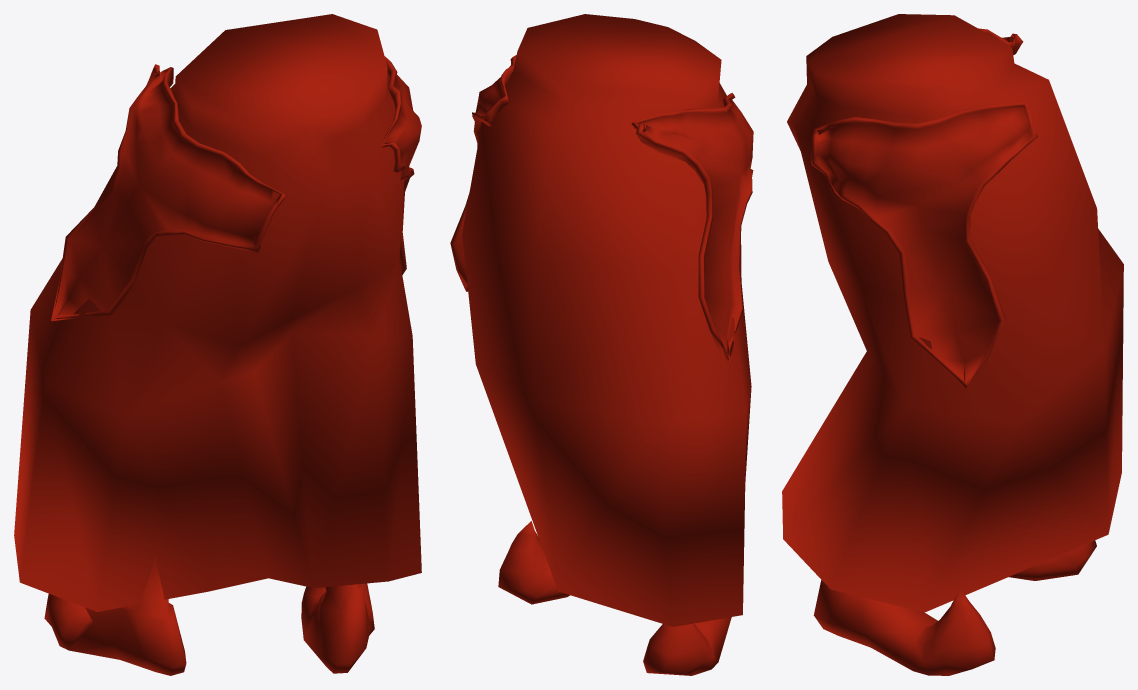
The model's file is bot_000069.obj.
The picture shows the model from 3 angles, left to right: view 1: azimuth 30°, elevation 25°; view 2: azimuth 150°, elevation 25°; view 3: azimuth 270°, elevation 25°; orthographic projection. The views are drawn at different scales.
Visible parts, largest first — view 1: LowPoly_Warlock.004_Plane.004; view 2: LowPoly_Warlock.004_Plane.004; view 3: LowPoly_Warlock.004_Plane.004.
Boxes of the visible parts, x1=… form: LowPoly_Warlock.004_Plane.004: x1=14, y1=14, x2=421, y2=675; LowPoly_Warlock.004_Plane.004: x1=450, y1=14, x2=753, y2=675; LowPoly_Warlock.004_Plane.004: x1=782, y1=14, x2=1123, y2=675.
Size of the model in its own units: 0.624 by 1.05 by 0.5509.
